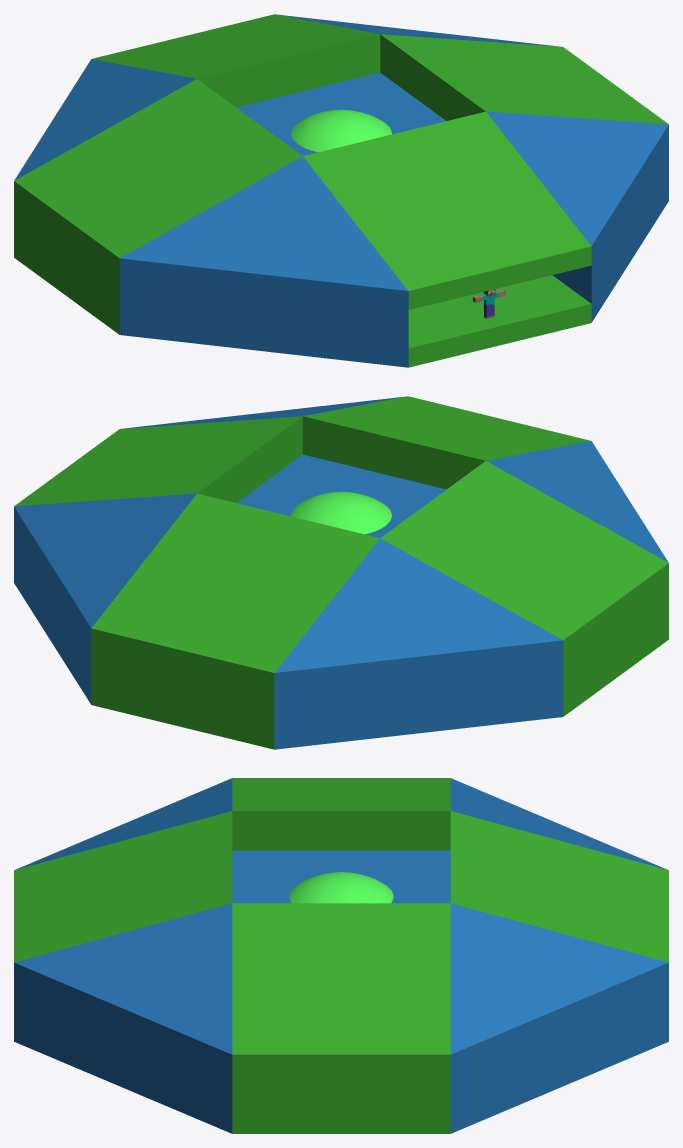
Rendered from naveE.obj.
The picture shows the model from 3 angles, top to bottom: view 1: azimuth 30°, elevation 25°; view 2: azimuth 150°, elevation 25°; view 3: azimuth 270°, elevation 25°; orthographic projection. The views are drawn at different scales.
Visible parts, largest first — view 1: mesh08, mesh04, mesh10, mesh05, mesh03, mesh01, mesh02, mesh06, cube01, mesh11, mesh07; view 2: mesh01, mesh06, mesh04, mesh07, mesh03, mesh10, mesh08, cube01, mesh11, mesh05; view 3: mesh03, mesh07, mesh05, mesh01, mesh10, mesh04, cube01, mesh08, mesh06, mesh11.
Part boxes in pixels (<box>): mesh08: <box>119,156,408,367</box>; mesh04: <box>14,79,302,334</box>; mesh10: <box>303,111,591,309</box>; mesh05: <box>486,111,668,322</box>; mesh03: <box>380,34,668,124</box>; mesh01: <box>92,14,380,107</box>; mesh02: <box>408,275,591,367</box>; mesh06: <box>14,59,196,180</box>; cube01: <box>236,72,445,155</box>; mesh11: <box>291,109,391,152</box>; mesh07: <box>276,14,561,46</box>; mesh01: <box>91,493,379,749</box>; mesh06: <box>274,538,563,749</box>; mesh04: <box>380,461,668,716</box>; mesh07: <box>14,493,196,704</box>; mesh03: <box>14,416,302,506</box>; mesh10: <box>302,396,590,489</box>; mesh08: <box>486,441,668,562</box>; cube01: <box>237,454,446,537</box>; mesh11: <box>291,491,391,534</box>; mesh05: <box>121,396,406,428</box>; mesh03: <box>232,903,450,1133</box>; mesh07: <box>450,903,668,1133</box>; mesh05: <box>14,903,232,1133</box>; mesh01: <box>450,811,668,962</box>; mesh10: <box>14,811,232,962</box>; mesh04: <box>232,778,450,850</box>; cube01: <box>232,850,450,903</box>; mesh08: <box>15,778,232,869</box>; mesh06: <box>450,778,667,869</box>; mesh11: <box>289,872,393,903</box>.
Bounding box in the file's own units: 150 × 50 × 150.
Materials: 4 (1 with a texture image).
